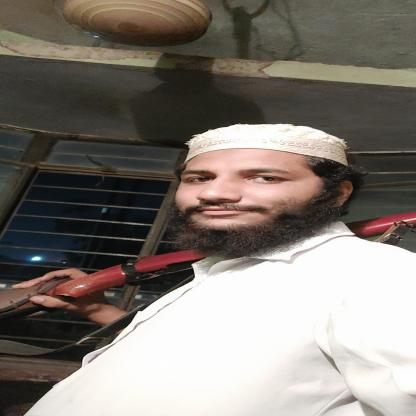rifle: (0, 211, 416, 318)
